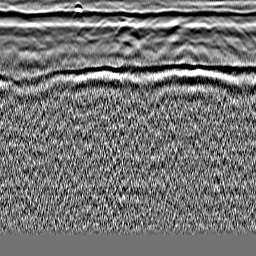cavity: (114, 19, 137, 38)
